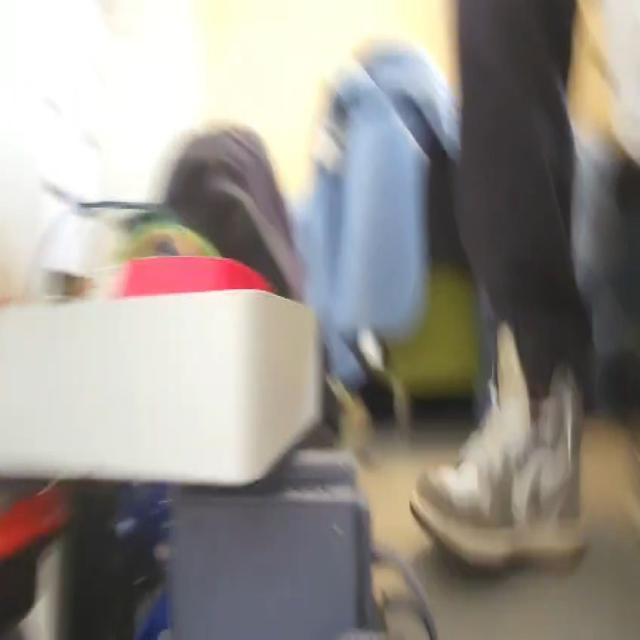Robot: (0, 221, 439, 638)
